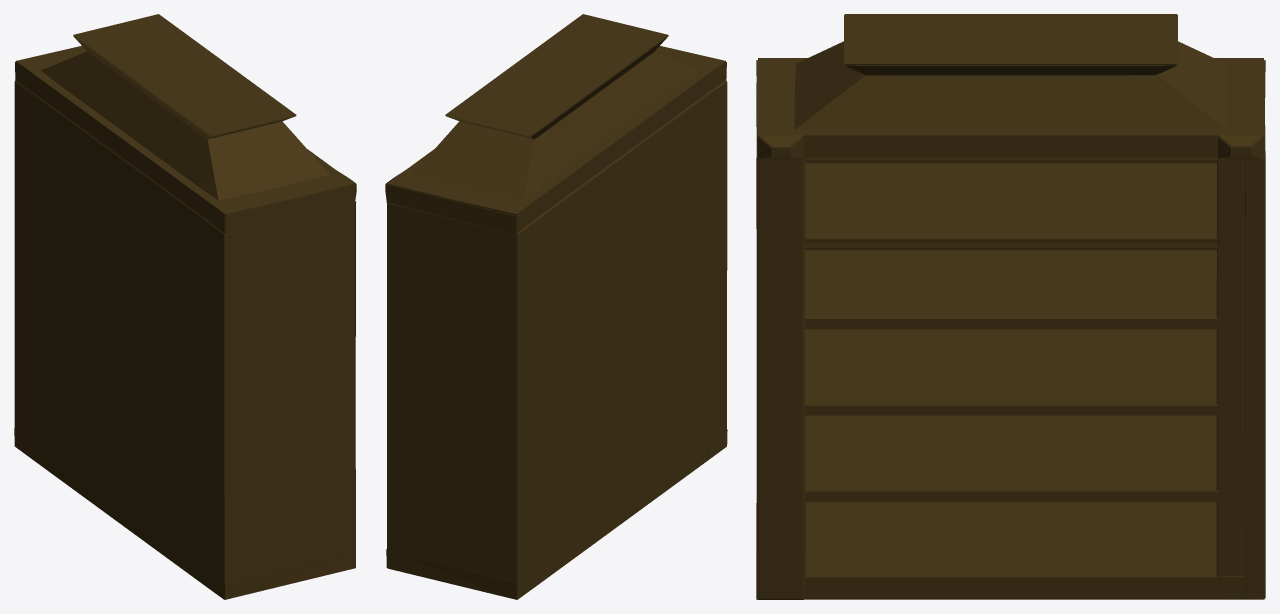
Rendered from books stand.fbx.
The picture shows the model from 3 angles, left to right: view 1: azimuth 30°, elevation 25°; view 2: azimuth 150°, elevation 25°; view 3: azimuth 270°, elevation 25°; orthographic projection. The views are drawn at different scales.
Parts seen in each view (by area): view 1: Plane; view 2: Plane; view 3: Plane.
Part boxes in pixels (<box>): Plane: <box>14,14,356,599</box>; Plane: <box>385,14,727,599</box>; Plane: <box>756,14,1265,599</box>.
Bounding box in the file's own units: 154 × 458 × 405.
